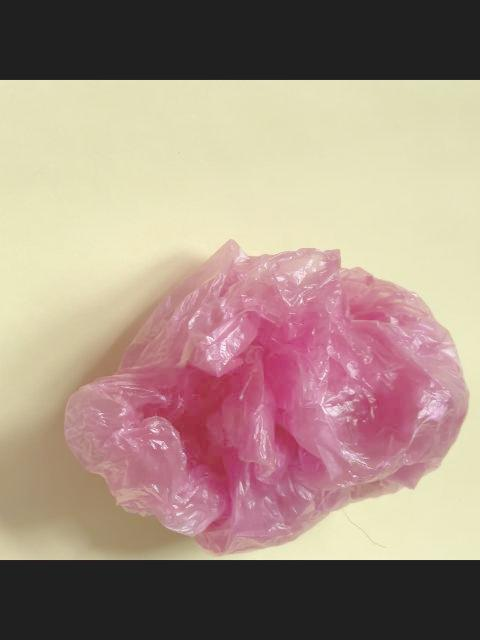plasticbag: (59, 236, 474, 558)
